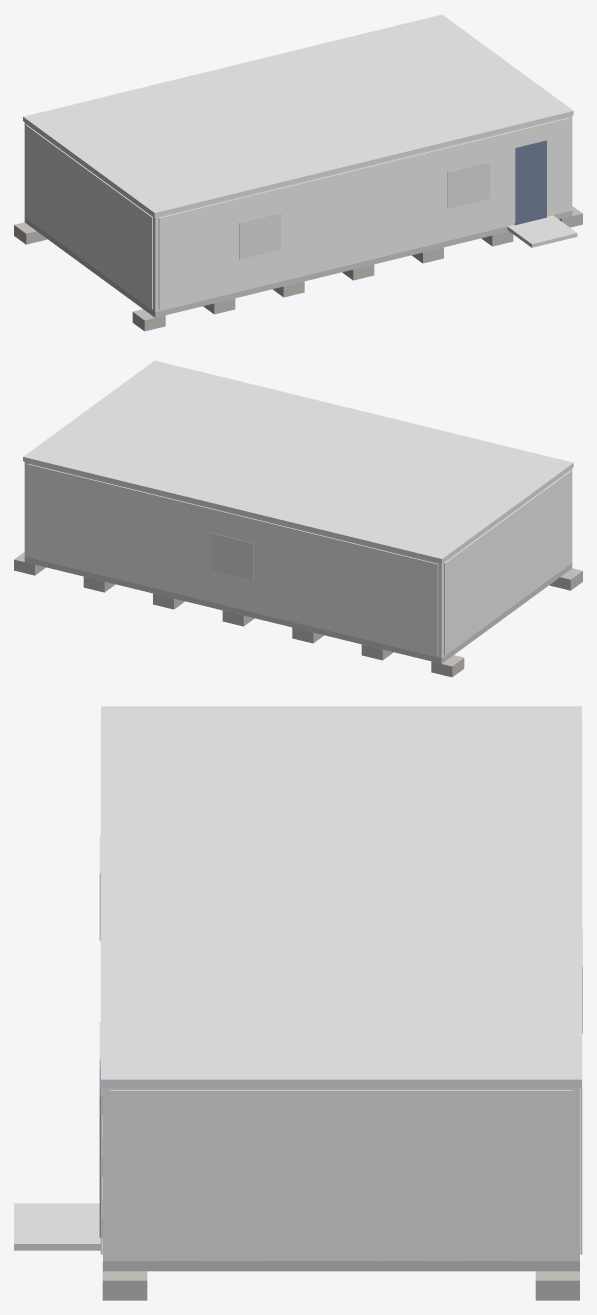
File: Studio-40-Retirement-LOD1.glb
The picture shows the model from 3 angles, top to bottom: view 1: azimuth 30°, elevation 25°; view 2: azimuth 150°, elevation 25°; view 3: azimuth 270°, elevation 25°; orthographic projection. The views are drawn at different scales.
Parts seen in each view (by area): view 1: RoofMain, ExteriorPanelsStandard, WindowsStandard, BaseFrame, ExteriorShell, FoundationBlocks, EntryDoor, AccessibilityRetirement; view 2: RoofMain, ExteriorPanelsStandard, BaseFrame, ExteriorShell, FoundationBlocks, WindowsStandard; view 3: RoofMain, ExteriorPanelsStandard, ExteriorShell, BaseFrame, AccessibilityRetirement, FoundationBlocks.
Boxes of the visible parts, x1=… form: RoofMain: x1=23, y1=14, x2=573, y2=217; ExteriorPanelsStandard: x1=25, y1=118, x2=569, y2=309; WindowsStandard: x1=239, y1=161, x2=489, y2=259; BaseFrame: x1=24, y1=210, x2=572, y2=317; ExteriorShell: x1=24, y1=115, x2=572, y2=312; FoundationBlocks: x1=14, y1=206, x2=582, y2=331; EntryDoor: x1=514, y1=140, x2=546, y2=225; AccessibilityRetirement: x1=507, y1=215, x2=577, y2=247; RoofMain: x1=23, y1=360, x2=573, y2=563; ExteriorPanelsStandard: x1=27, y1=464, x2=571, y2=655; BaseFrame: x1=24, y1=557, x2=572, y2=663; ExteriorShell: x1=24, y1=462, x2=572, y2=658; FoundationBlocks: x1=14, y1=552, x2=582, y2=677; WindowsStandard: x1=211, y1=533, x2=253, y2=579; RoofMain: x1=101, y1=706, x2=581, y2=1087; ExteriorPanelsStandard: x1=100, y1=721, x2=582, y2=1258; ExteriorShell: x1=103, y1=1087, x2=579, y2=1261; BaseFrame: x1=103, y1=1261, x2=579, y2=1271; AccessibilityRetirement: x1=14, y1=1203, x2=100, y2=1250; FoundationBlocks: x1=102, y1=1088, x2=579, y2=1300.
Size of the model in its own units: 12.49 by 3.17 by 7.69.
